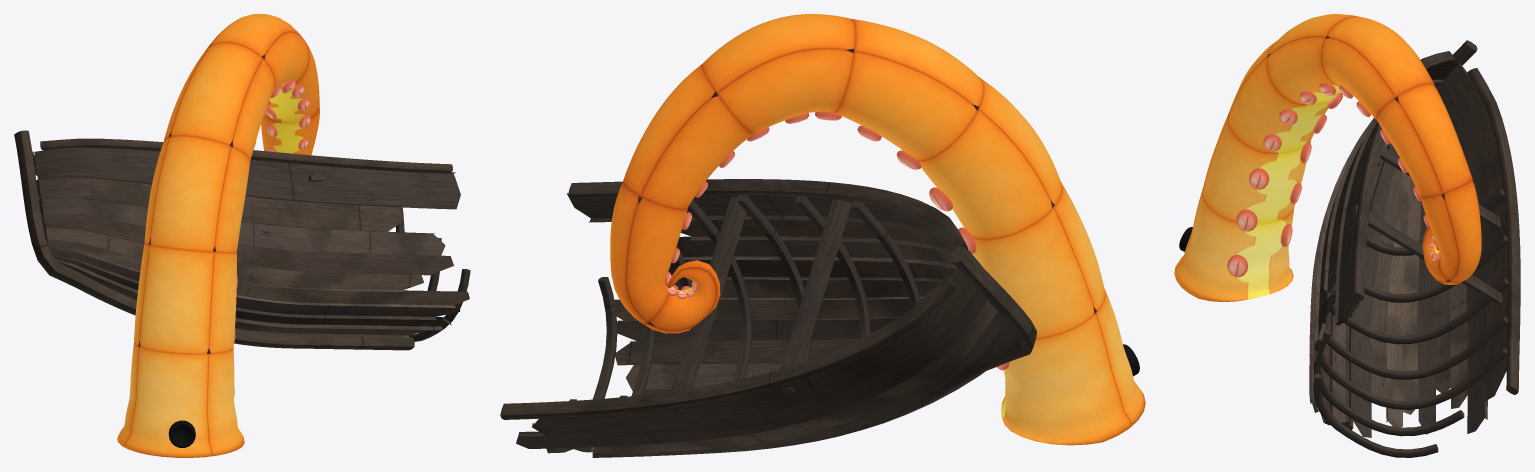
Rendered from kraken-arch.glb.
3 renders of one model, left to right at view 1: azimuth 30°, elevation 25°; view 2: azimuth 150°, elevation 25°; view 3: azimuth 270°, elevation 25°, orthographic. The views are drawn at different scales.
Visible parts, largest first — view 1: hull, tentacle; view 2: hull, tentacle; view 3: hull, tentacle.
Boxes of the visible parts, x1,y1,x2,y2 form: hull: [14, 130, 470, 350]; tentacle: [117, 14, 319, 457]; hull: [500, 179, 1036, 457]; tentacle: [610, 14, 1145, 445]; hull: [1309, 40, 1520, 457]; tentacle: [1174, 14, 1481, 301].
Size of the model in its own units: 5.58 by 4.98 by 4.41.
4 materials, 3 textured.
